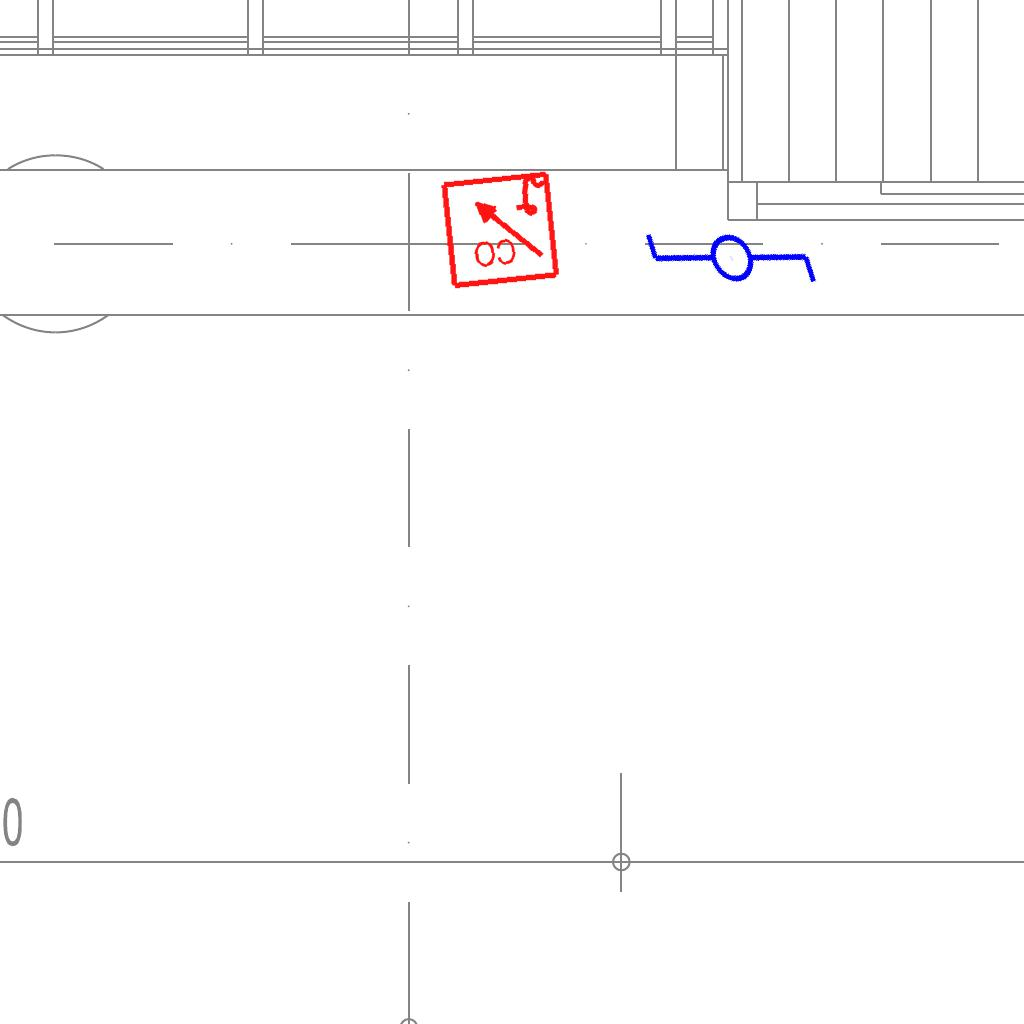ROA_Rauchmelder_optisch_mit_Signalgeber_(Sockelsirene): (437, 166, 562, 291)
Wechselschalter: (631, 160, 838, 372)
